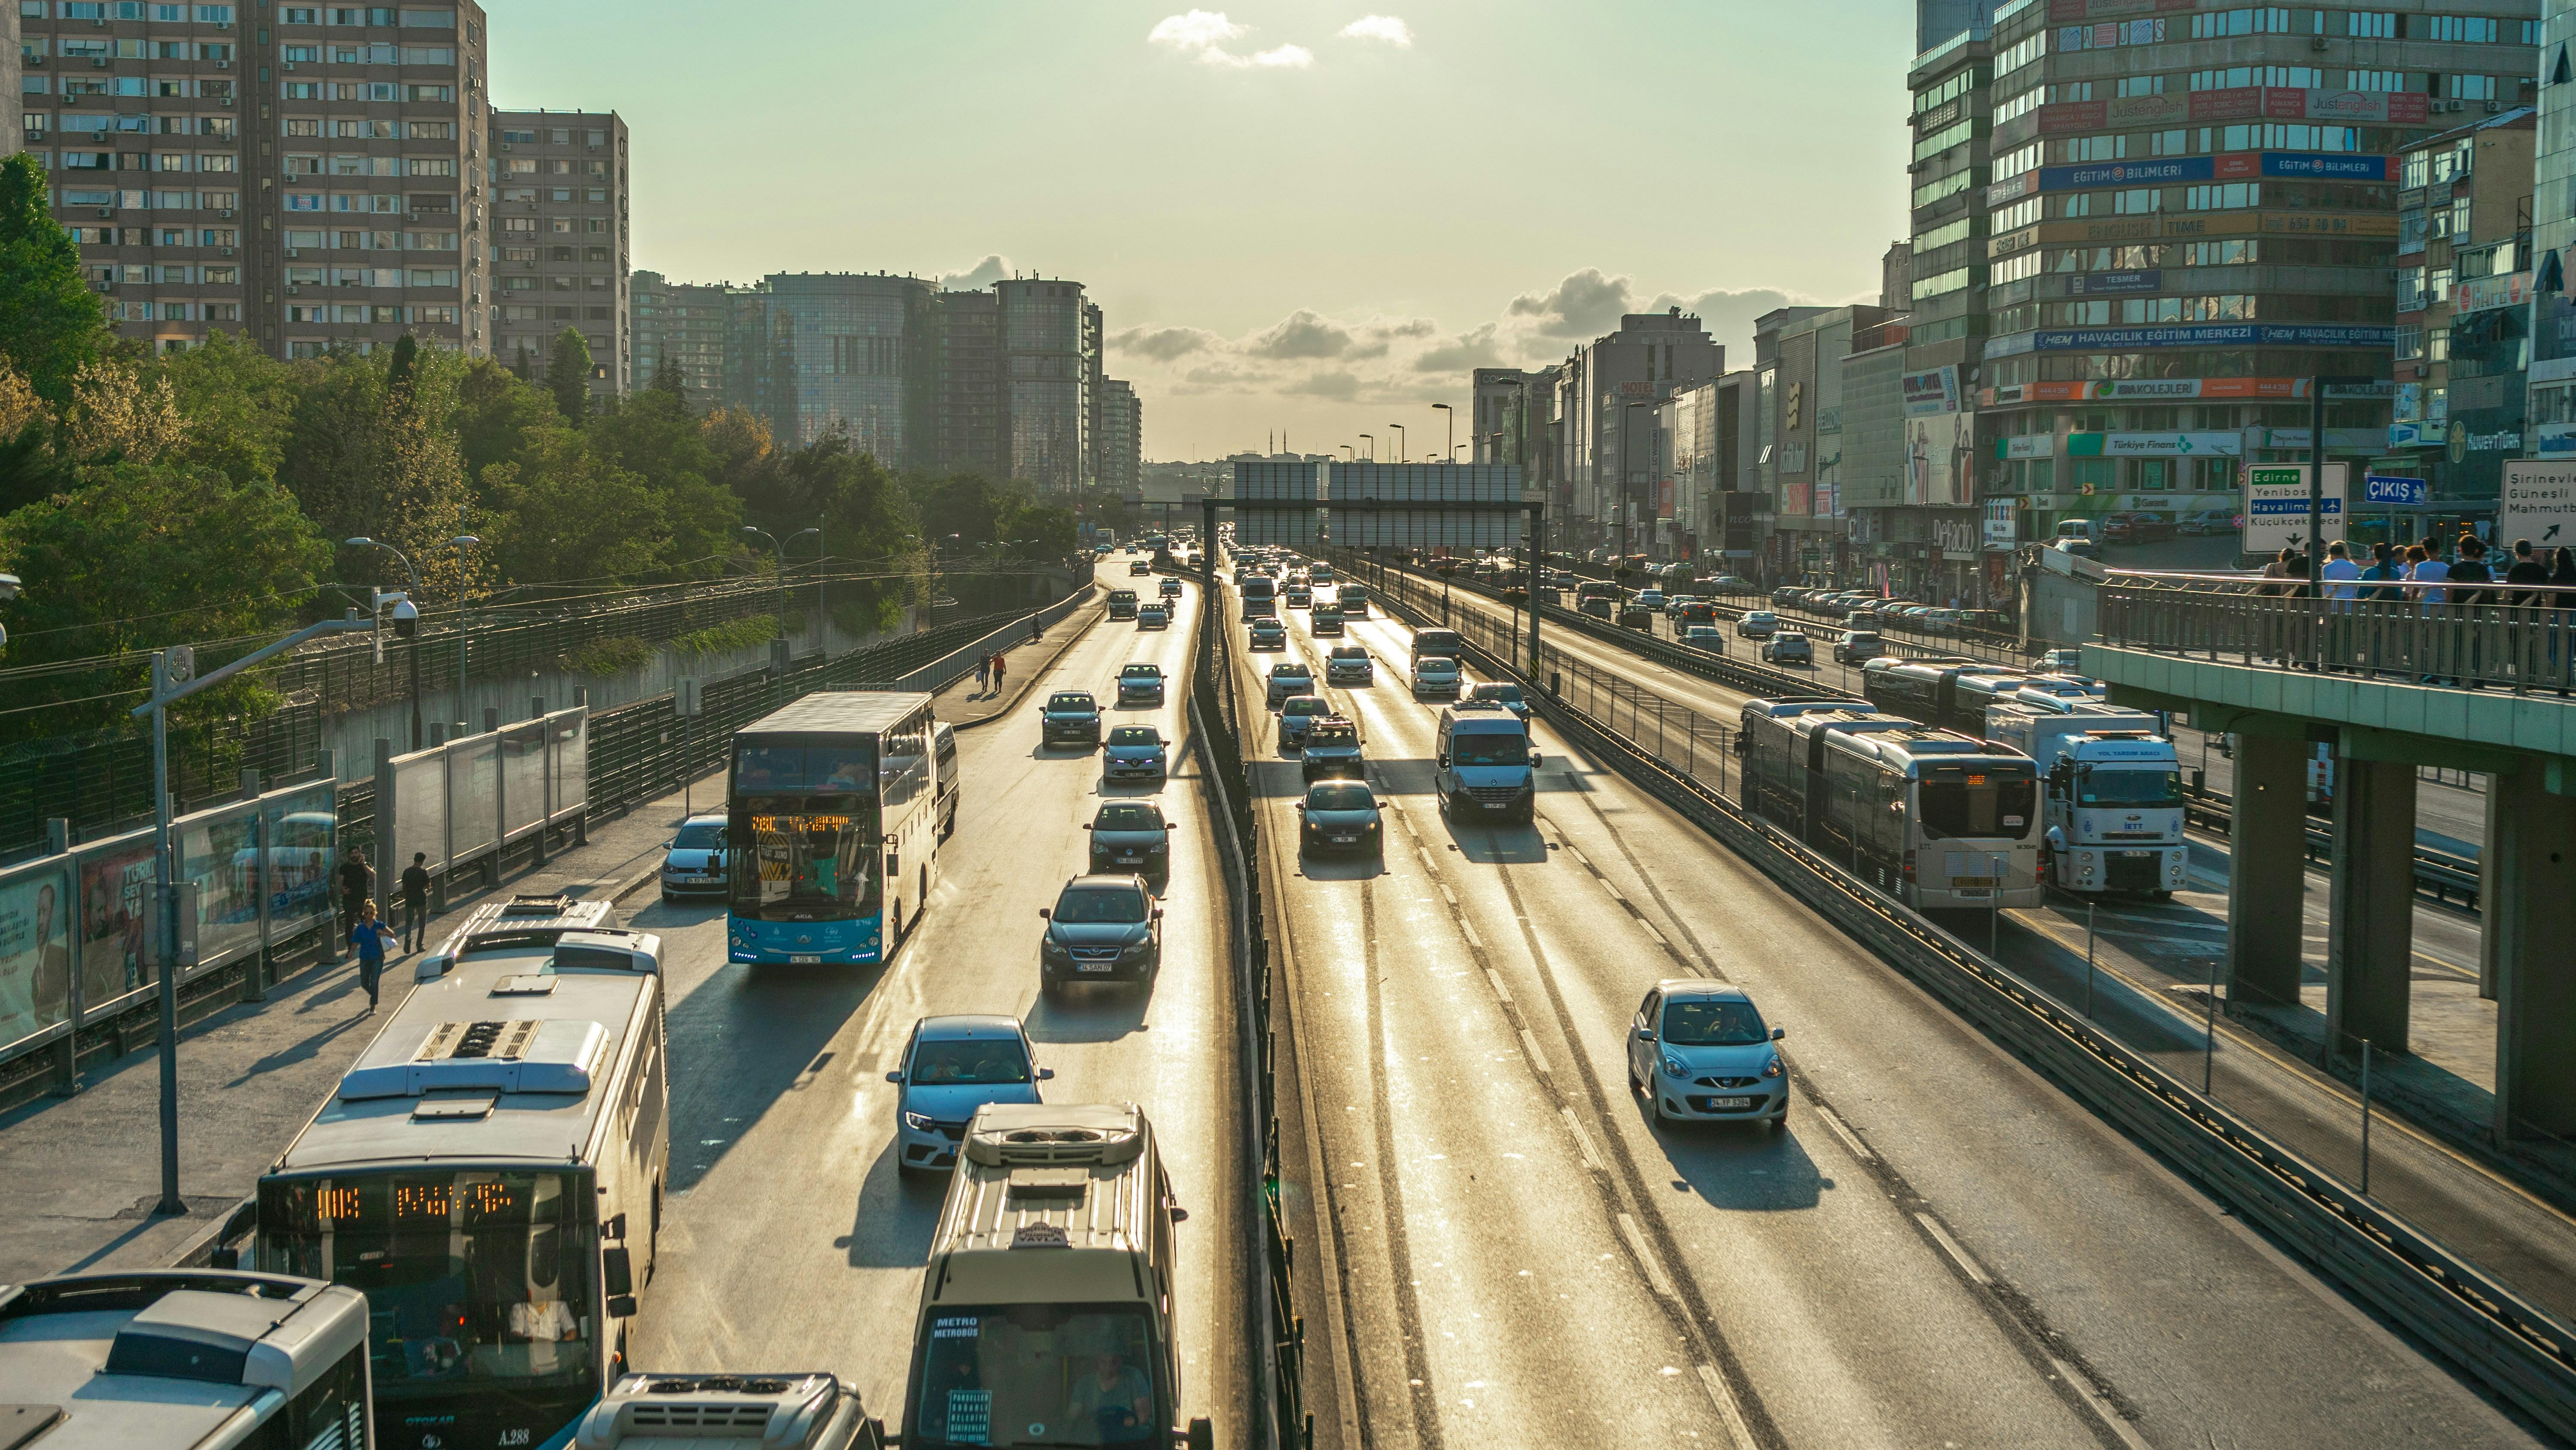Trucks: (257, 898, 669, 1450), (902, 1105, 1214, 1450), (1744, 710, 2042, 954), (0, 1269, 370, 1450), (729, 692, 941, 963), (1987, 694, 2187, 898), (1743, 701, 1920, 839), (1737, 696, 1867, 820), (1863, 657, 2026, 737), (1238, 574, 1277, 620), (1108, 588, 1139, 620)
